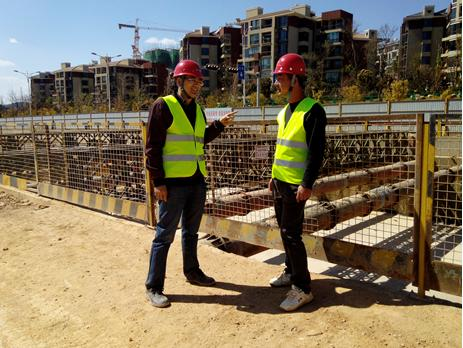boots: (279, 284, 314, 310), (184, 268, 215, 285), (145, 287, 171, 307), (269, 269, 292, 286)
gloves: (213, 110, 238, 132)
hard-hat: (271, 53, 305, 76), (171, 59, 204, 80)
person: (142, 59, 238, 308), (268, 52, 328, 311)
vest: (154, 94, 207, 178), (268, 96, 316, 181)
